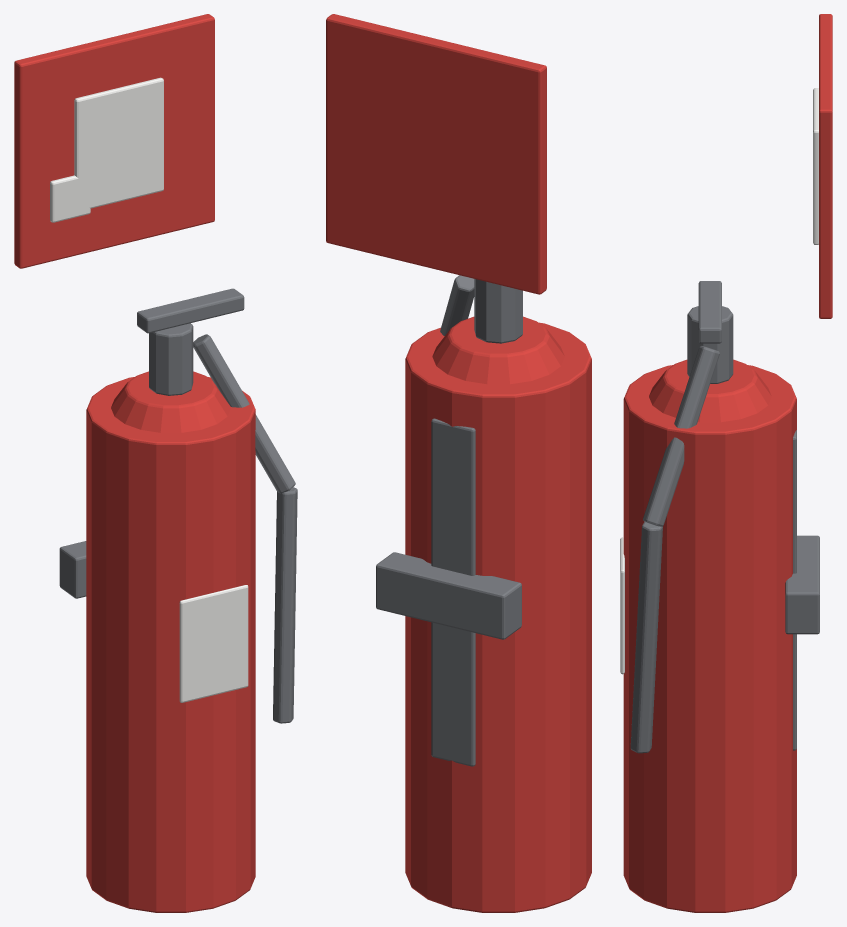
The model's file is fire_extinguisher.glb.
3 renders of one model, left to right at view 1: azimuth 30°, elevation 25°; view 2: azimuth 150°, elevation 25°; view 3: azimuth 270°, elevation 25°, orthographic. The views are drawn at different scales.
Parts seen in each view (by area): view 1: fire_extinguisher; view 2: fire_extinguisher; view 3: fire_extinguisher.
Part boxes in pixels (x1,y1,x2,y2): fire_extinguisher: (14,14,297,912); fire_extinguisher: (326,14,591,912); fire_extinguisher: (620,14,832,912).
Size of the model in its own units: 0.2 by 0.78 by 0.184.
